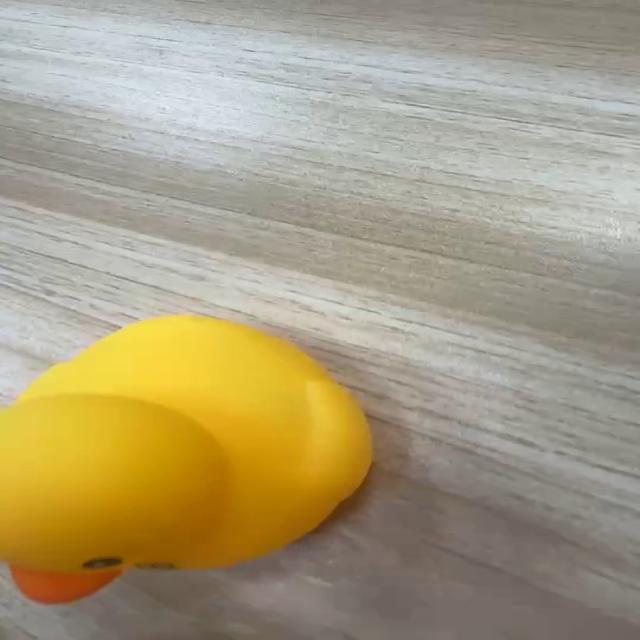yellow_duck: (1, 313, 375, 604)
